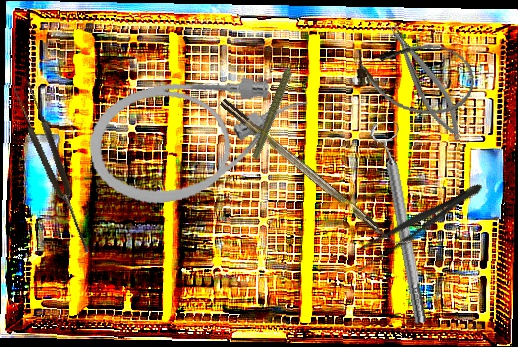Cannula: (80, 63, 320, 213), (350, 33, 480, 121)
Chopper: (219, 89, 413, 256)
Dressing Forceps: (348, 175, 488, 275)
Fixation Ring: (368, 119, 436, 327)
Handpiece: (232, 53, 321, 161)
Needle Holder: (383, 17, 470, 146)
Tissue Forceps: (11, 80, 97, 257)
